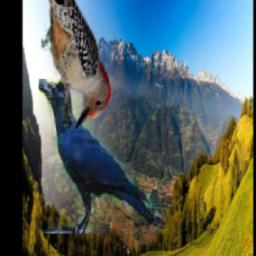Crow: (39, 80, 161, 235)
Woodpecker: (40, 0, 111, 130)
